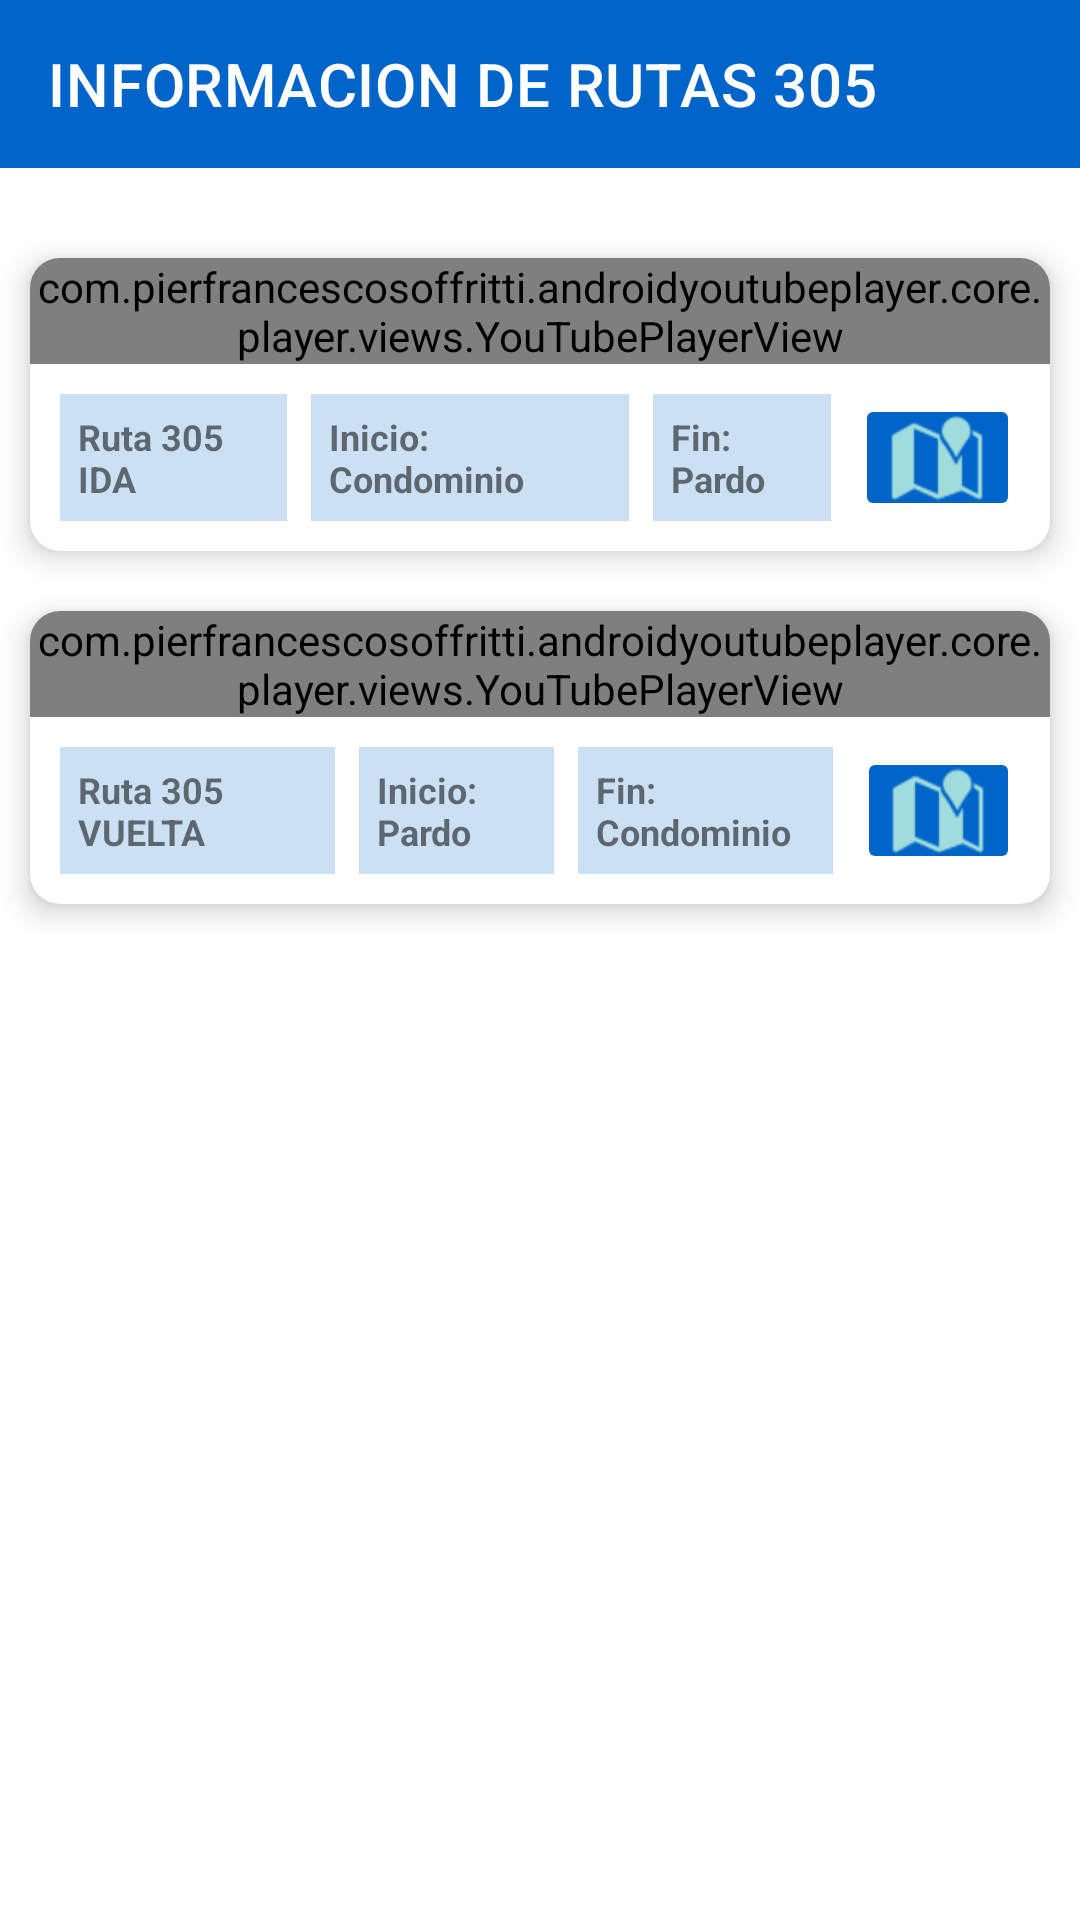

Where to tap for icons on this 1080 x 1920 app screen, as [x,y]:
map: [937,457], [938,810]
